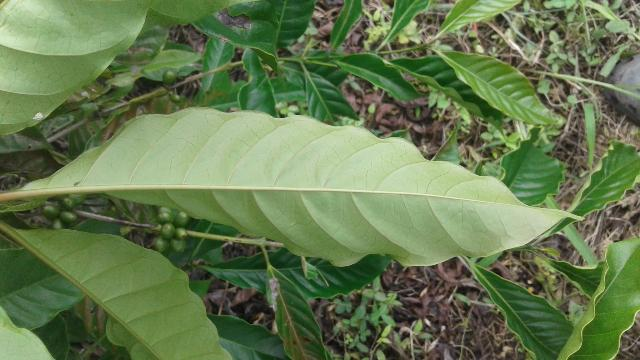healthy: (17, 107, 579, 268)
